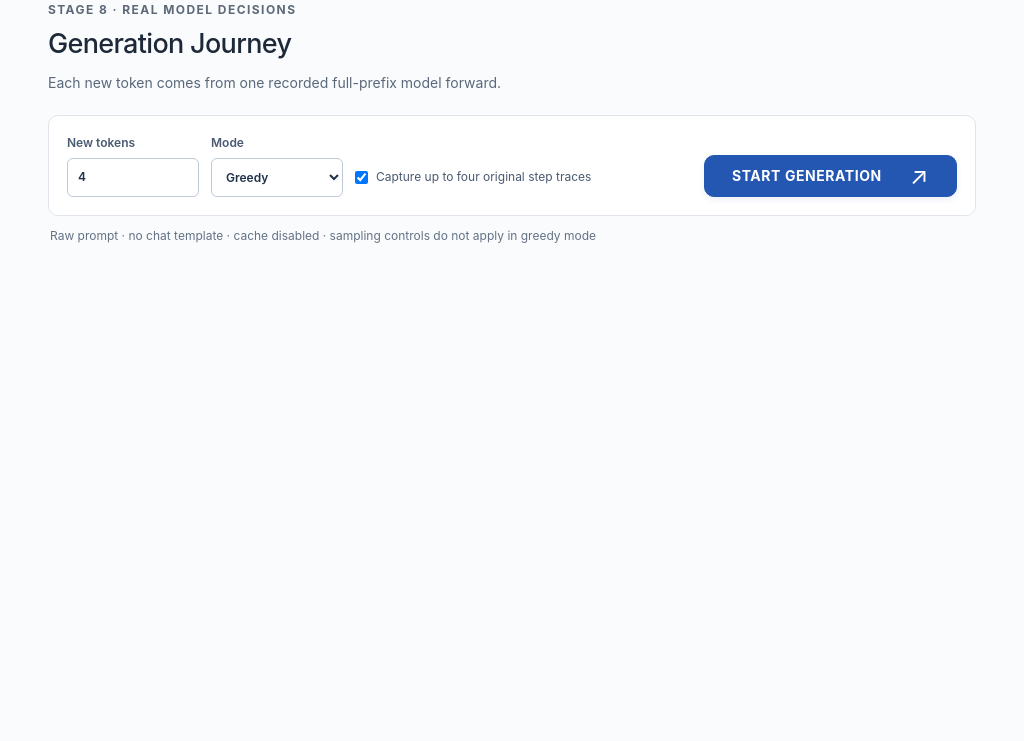
Test: Generation Journey › submits raw prompt IDs policy and keeps greedy probabilities distinct
Check: the dropdown named "Generation mode" shows "Greedy", box [211,158,343,196]
Click the button "START GENERATION ↗" at [831, 176], box [704,154,957,196]
(page scrolled)
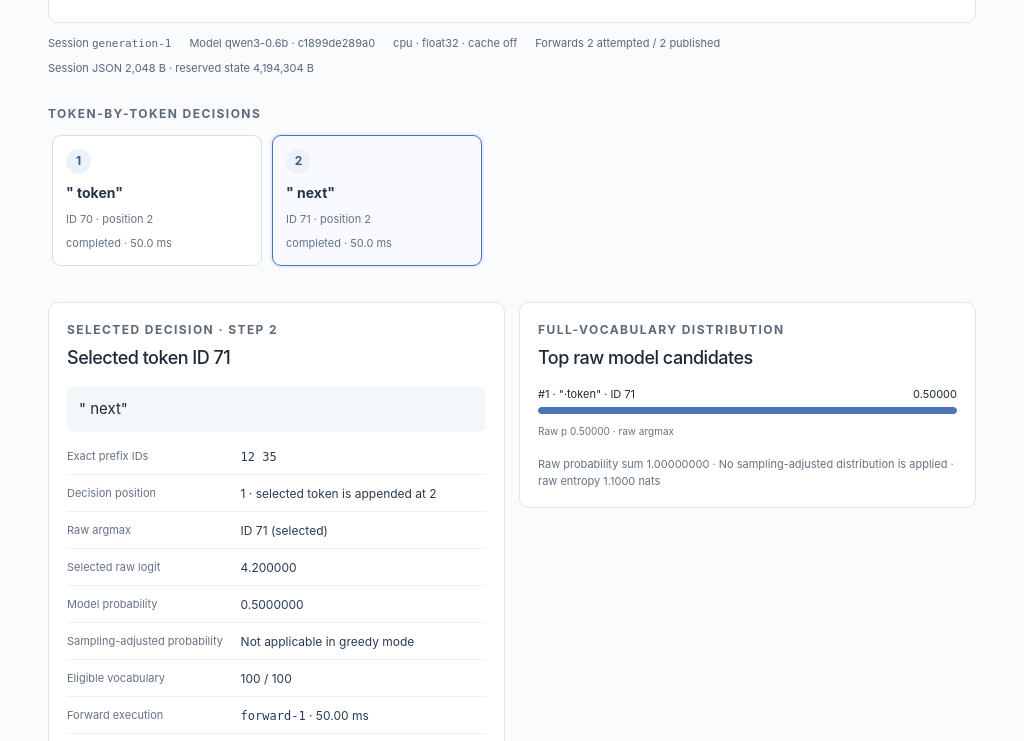
Check: the heading "Selected token ID 71" is shown, box [67,347,230,368]
Check: the text "Not applicable in greedy mode" is shown, box [241,634,414,649]
Check: the heading "Top raw model candidates" is shown, box [538,347,753,368]
